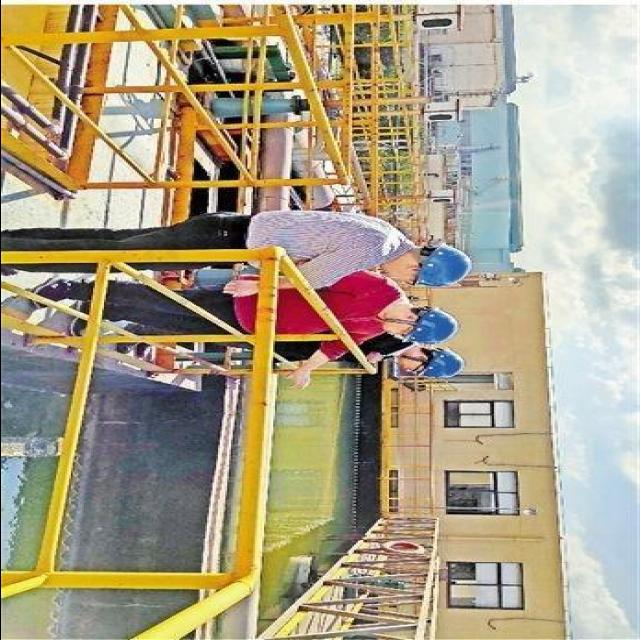helmet: (410, 233, 476, 290), (406, 306, 464, 348), (414, 351, 482, 384)
